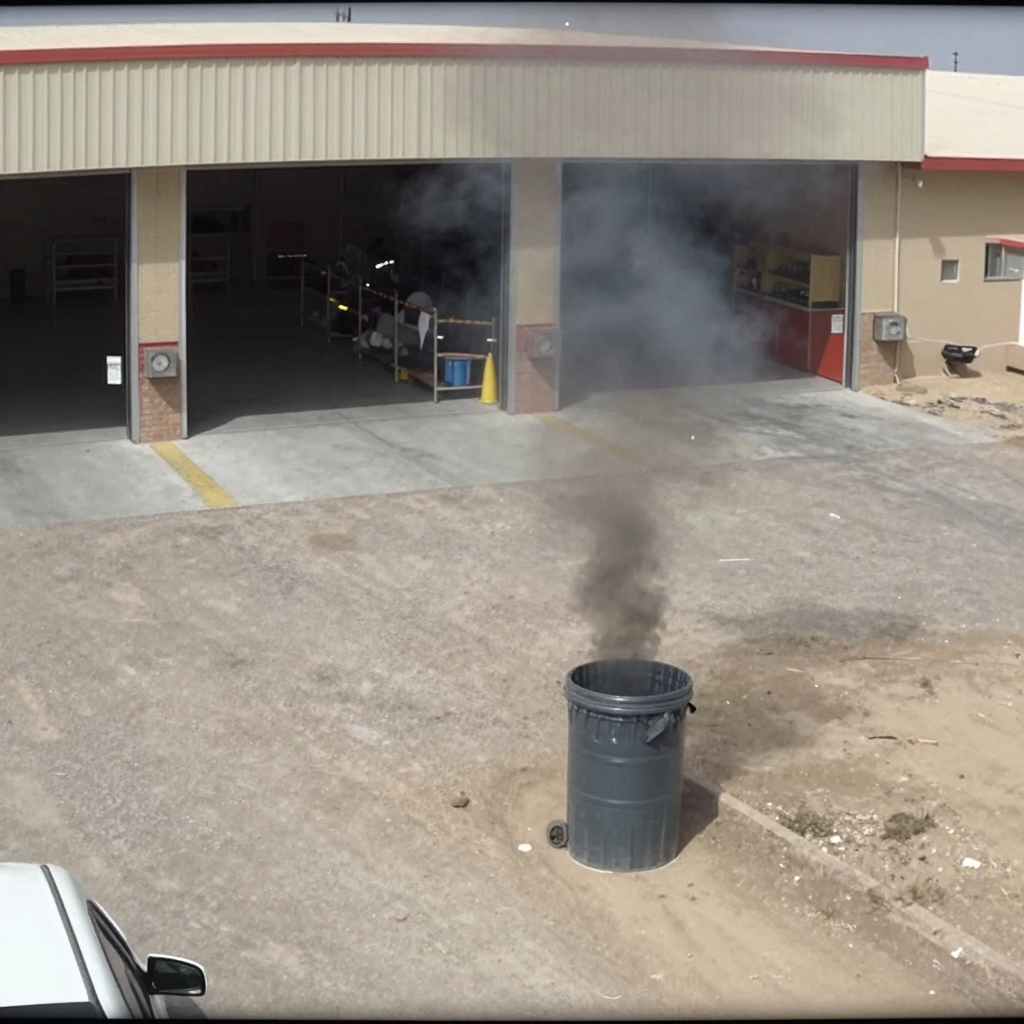Explosion: (451, 0, 781, 700)
